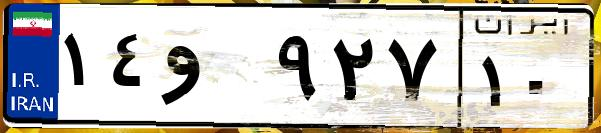0: (525, 38, 570, 115)
1: (57, 26, 110, 100), (475, 38, 525, 113)
2: (330, 28, 385, 110)
4: (110, 28, 158, 98)
7: (385, 28, 445, 110)
9: (270, 28, 330, 110)
و: (158, 20, 270, 120)
